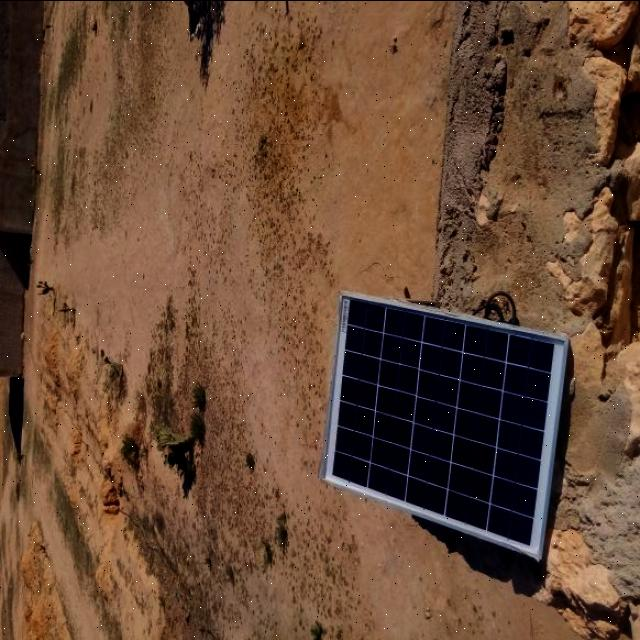Normal Solar Panel: (321, 291, 569, 558)
